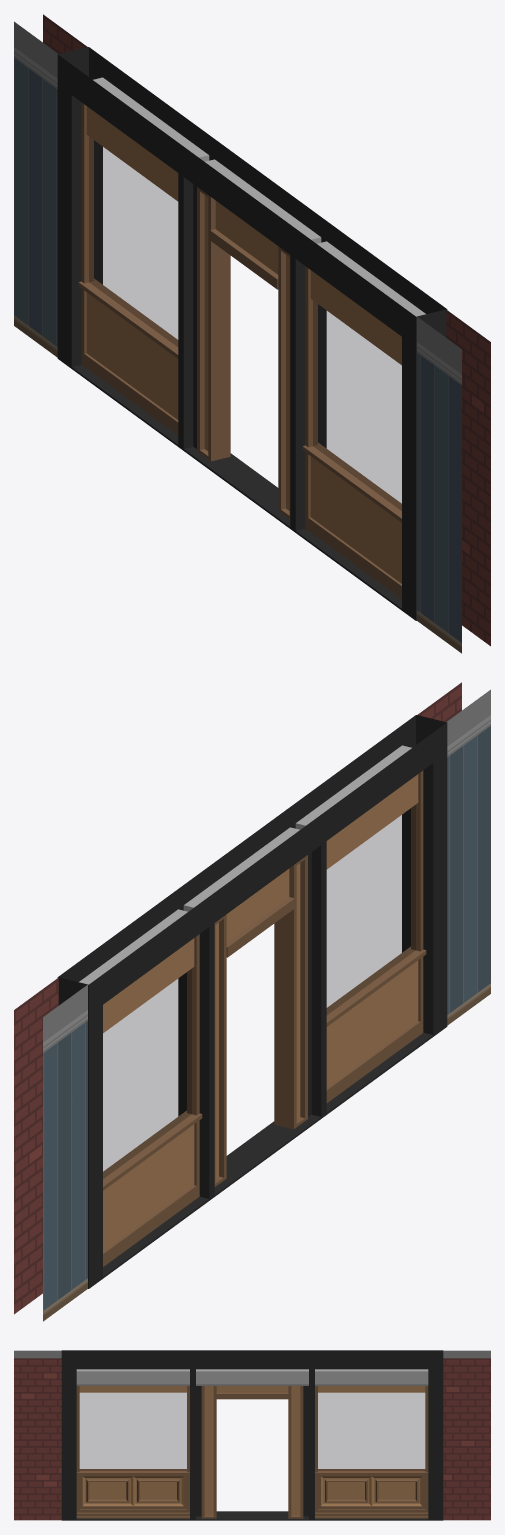
File: SM_shopFront_03.glb
3 views of the same model, one above another, from view 1: azimuth 30°, elevation 25°; view 2: azimuth 150°, elevation 25°; view 3: azimuth 270°, elevation 25° (orthographic). The views are drawn at different scales.
Parts seen in each view (by area): view 1: SM_shopFront_03; view 2: SM_shopFront_03; view 3: SM_shopFront_03.
Boxes of the visible parts, x1,y1,x2,y2 form: SM_shopFront_03: (14, 14, 490, 653); SM_shopFront_03: (14, 682, 490, 1321); SM_shopFront_03: (14, 1350, 490, 1520).
Bounding box in the file's own units: 0.4 × 3 × 8.
4 materials, 3 textured.
